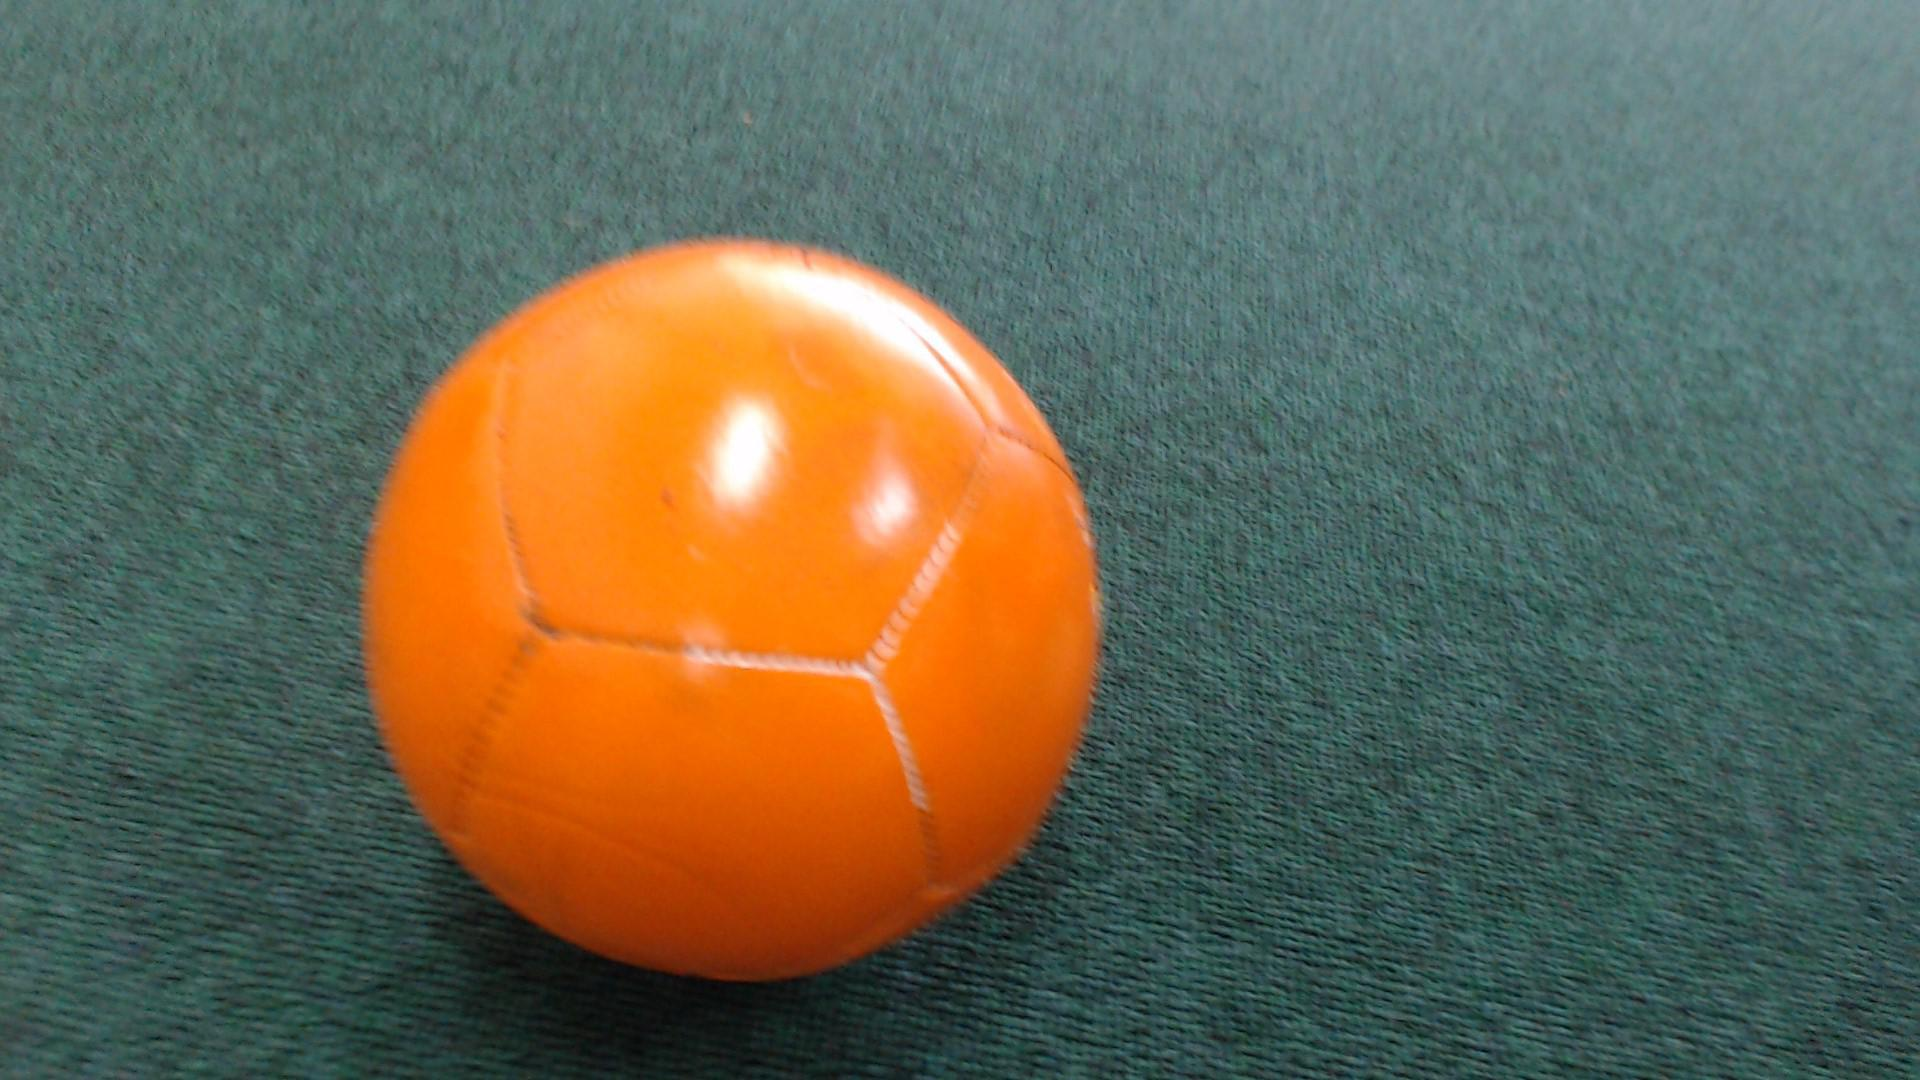bola: (327, 222, 1141, 1006)
